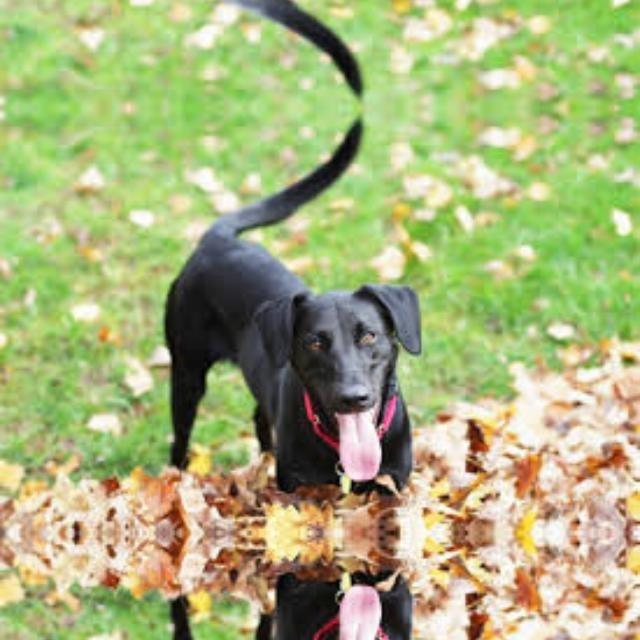dog: (128, 170, 442, 490), (128, 576, 442, 640), (128, 0, 442, 44)
